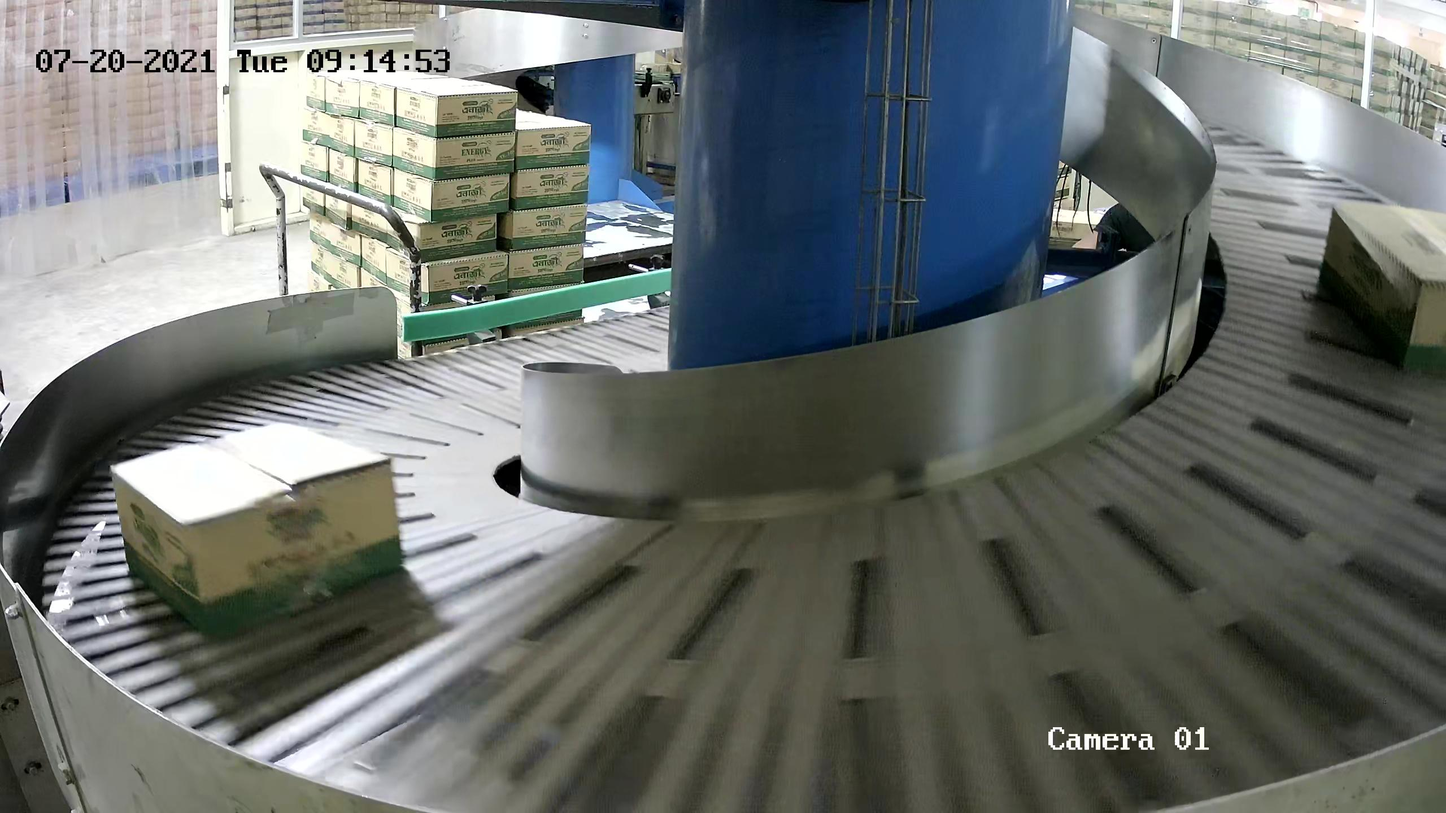Box: (108, 418, 406, 639), (1315, 200, 1446, 373)
